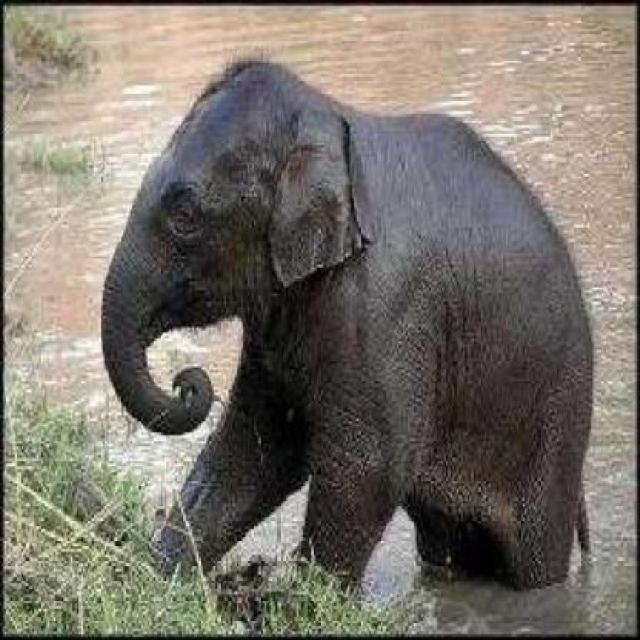Elephant: (82, 46, 600, 623)
